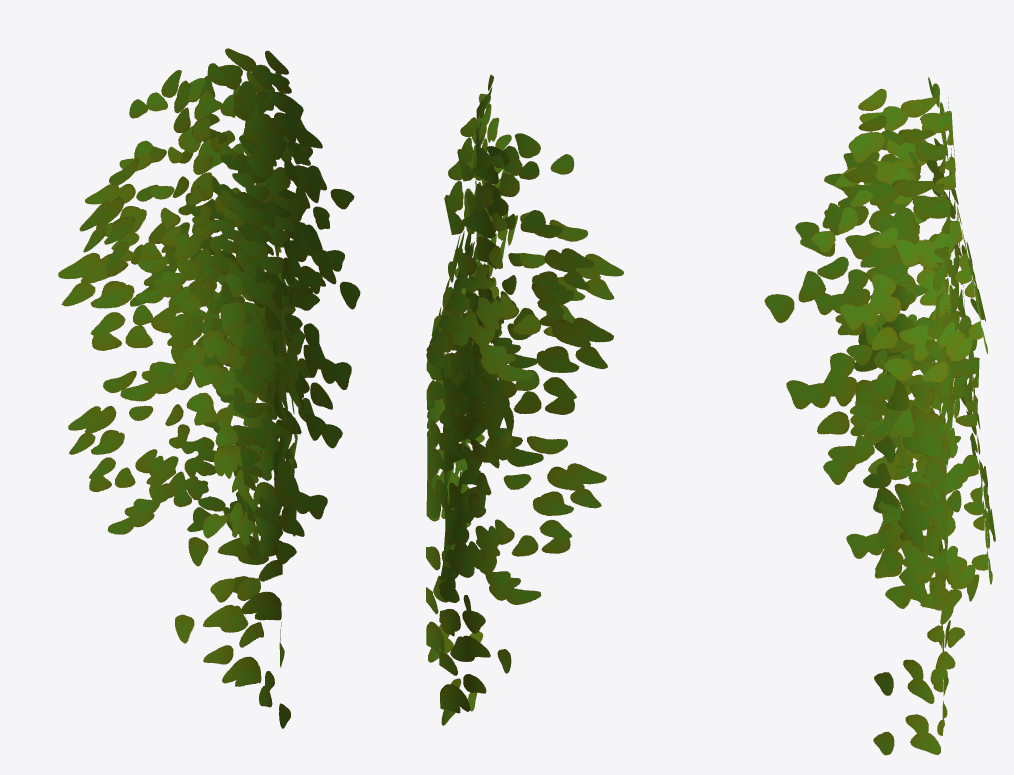
File: SM_Vine_Corner_01.fbx
The picture shows the model from 3 angles, left to right: view 1: azimuth 30°, elevation 25°; view 2: azimuth 150°, elevation 25°; view 3: azimuth 270°, elevation 25°; orthographic projection. The views are drawn at different scales.
Visible parts, largest first — view 1: SM_Vine_Corner_01_LOD0; view 2: SM_Vine_Corner_01_LOD0; view 3: SM_Vine_Corner_01_LOD0.
Part boxes in pixels (<box>): SM_Vine_Corner_01_LOD0: <box>58,48,360,728</box>; SM_Vine_Corner_01_LOD0: <box>426,74,623,725</box>; SM_Vine_Corner_01_LOD0: <box>764,77,995,755</box>.
Size of the model in its own units: 183 by 176 by 435.
